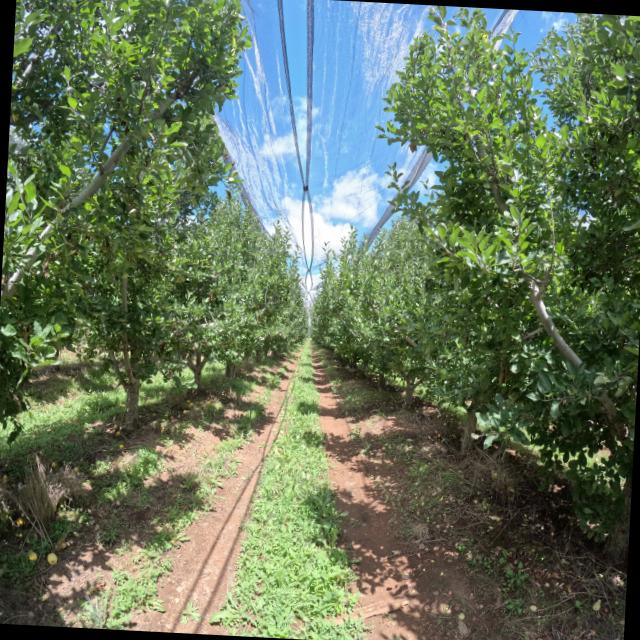-FireBlight-: (499, 362, 513, 385)
